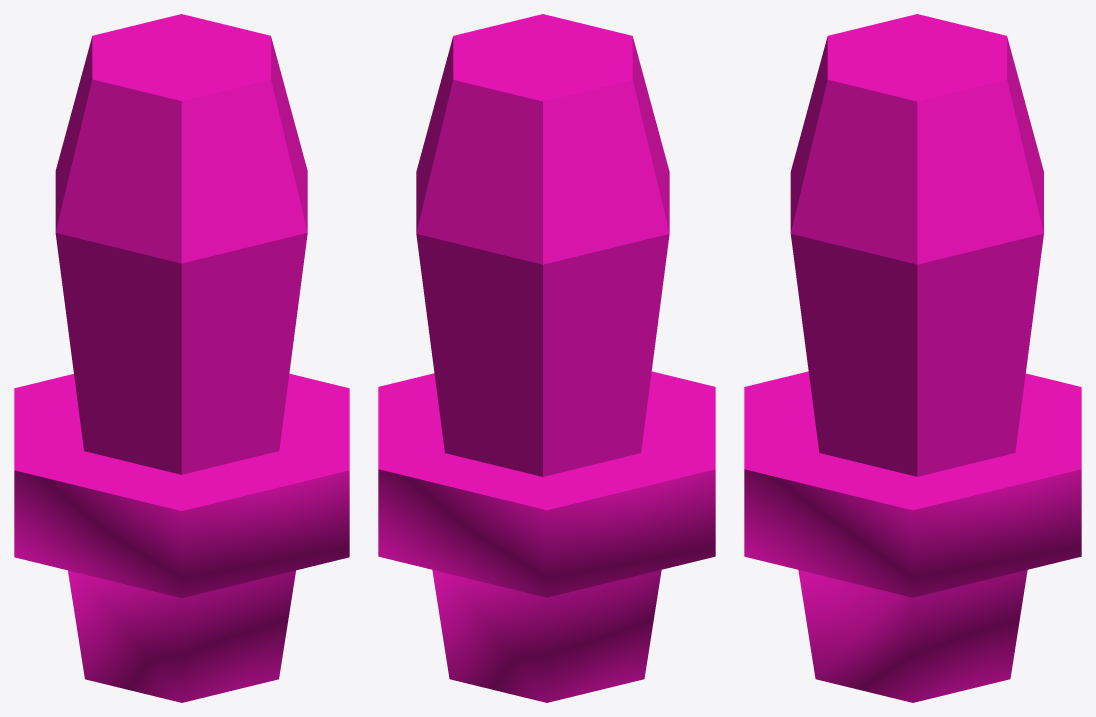
File: study_plant_cactus_1_meshCollider.fbx
3 views of the same model, side by side, from view 1: azimuth 30°, elevation 25°; view 2: azimuth 150°, elevation 25°; view 3: azimuth 270°, elevation 25° (orthographic).
Parts seen in each view (by area): view 1: study_plant_cactus_1_meshCollider; view 2: study_plant_cactus_1_meshCollider; view 3: study_plant_cactus_1_meshCollider.
Part boxes in pixels (x1,y1,x2,y2): study_plant_cactus_1_meshCollider: (14,14,349,702); study_plant_cactus_1_meshCollider: (378,14,715,702); study_plant_cactus_1_meshCollider: (744,14,1081,702).
Size of the model in its own units: 15.6 by 26.48 by 13.51.
